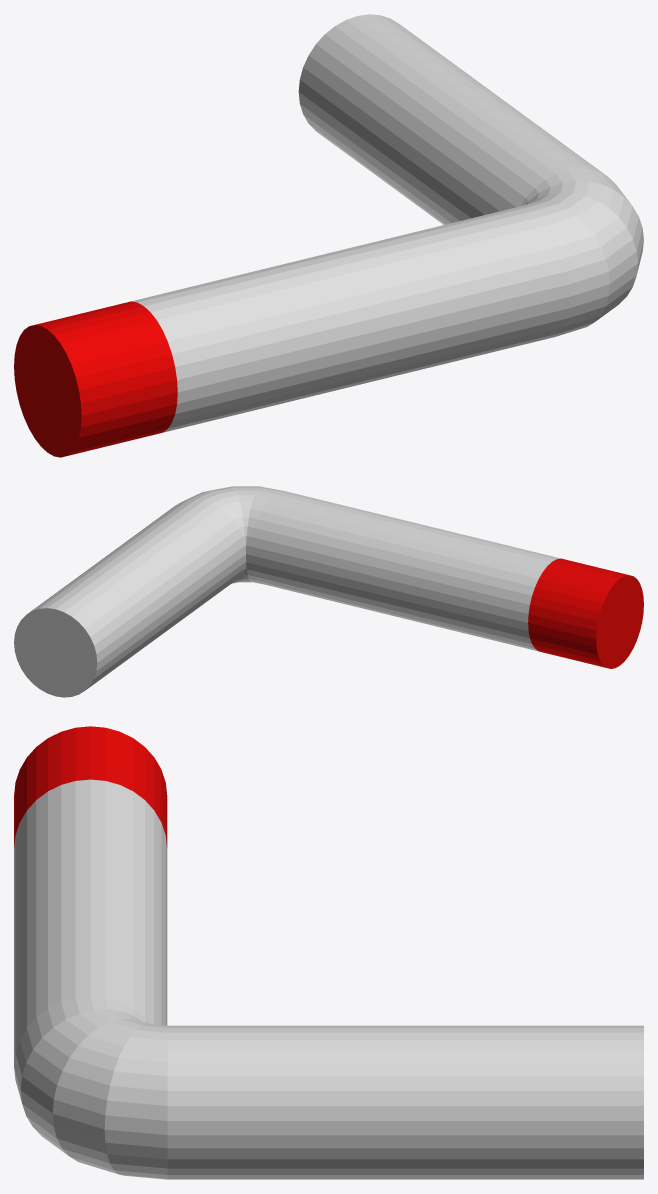
Rendered from Circuit1.fbx.
The picture shows the model from 3 angles, top to bottom: view 1: azimuth 30°, elevation 25°; view 2: azimuth 150°, elevation 25°; view 3: azimuth 270°, elevation 25°; orthographic projection. The views are drawn at different scales.
Parts seen in each view (by area): view 1: Trial1; view 2: Trial1; view 3: Trial1.
Part boxes in pixels (x1,y1,x2,y2): Trial1: (14, 14, 643, 457); Trial1: (14, 486, 643, 697); Trial1: (14, 726, 643, 1179).
Size of the model in its own units: 171 by 32.96 by 135.
